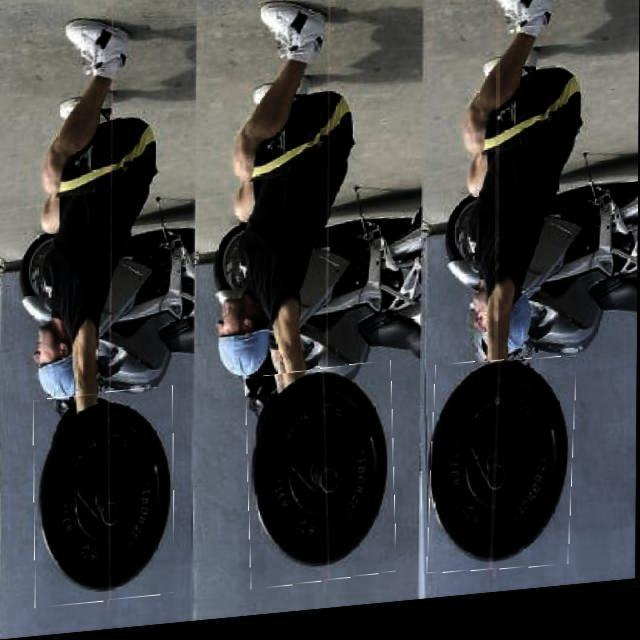barbell: (247, 370, 397, 595), (430, 365, 577, 585), (35, 390, 176, 610)
